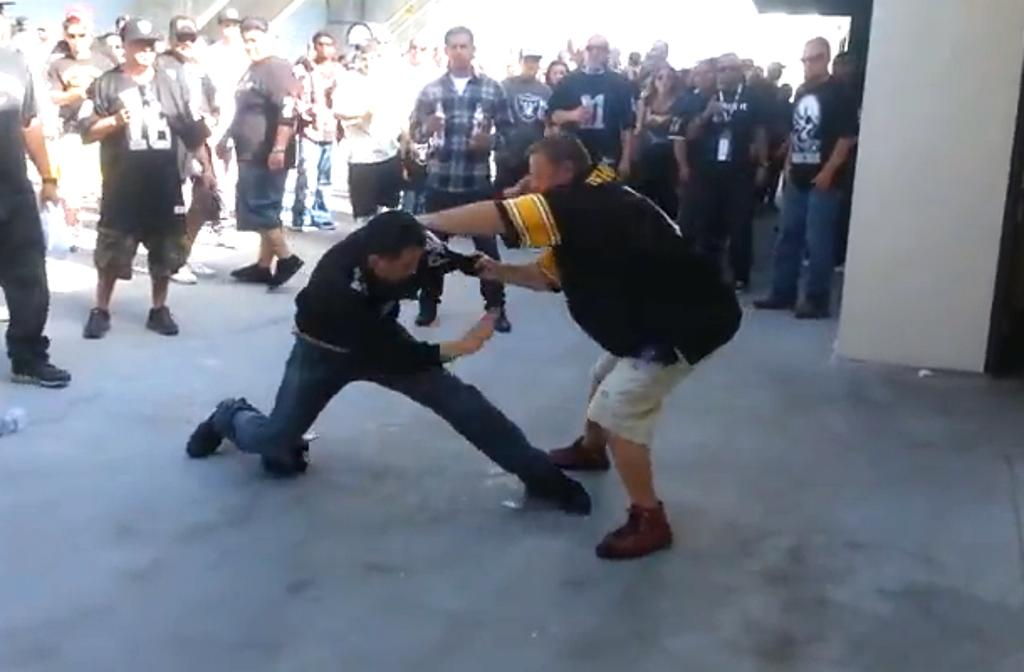face: (529, 159, 562, 197), (380, 247, 416, 280), (802, 46, 827, 76), (133, 35, 156, 64), (173, 30, 197, 56), (447, 38, 471, 64), (242, 35, 266, 57), (587, 41, 604, 65), (68, 29, 85, 52), (718, 62, 736, 83), (836, 59, 855, 77), (696, 67, 711, 87), (222, 21, 238, 39), (351, 38, 371, 52), (316, 40, 332, 57), (106, 40, 122, 57), (374, 38, 390, 55), (411, 41, 426, 58), (549, 68, 564, 84), (570, 44, 585, 60), (657, 72, 670, 90), (522, 57, 536, 73), (356, 64, 368, 76), (2, 6, 14, 18), (560, 57, 571, 70), (433, 50, 443, 64), (743, 64, 753, 76), (152, 41, 162, 53), (651, 46, 661, 57), (773, 68, 782, 78), (38, 31, 46, 39), (354, 56, 363, 63), (784, 87, 790, 97), (22, 22, 29, 30), (756, 70, 763, 78), (347, 66, 354, 74), (508, 67, 514, 74), (342, 58, 347, 66)
